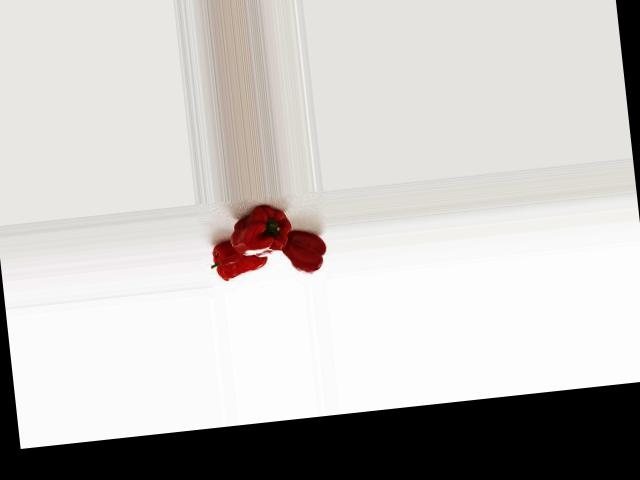bell_pepper: (282, 225, 331, 275)
